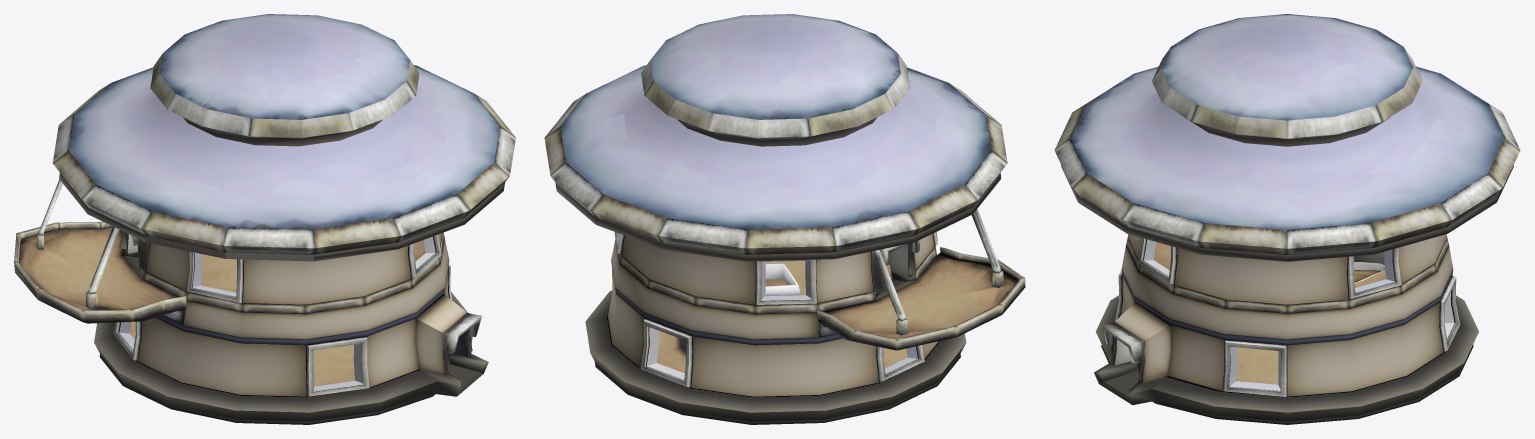
Rendered from cylinder_house_50m_2floor.DAE.
The picture shows the model from 3 angles, left to right: view 1: azimuth 30°, elevation 25°; view 2: azimuth 150°, elevation 25°; view 3: azimuth 270°, elevation 25°; orthographic projection.
Parts seen in each view (by area): view 1: stairCylinder01; view 2: stairCylinder01; view 3: stairCylinder01.
Part boxes in pixels (x1,y1,x2,y2): stairCylinder01: (14,14,515,424); stairCylinder01: (544,14,1025,424); stairCylinder01: (1054,14,1520,424).
Bounding box in the file's own units: 64.63 × 44.52 × 59.57.
